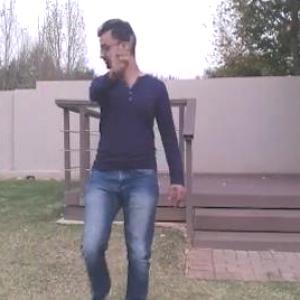takeoff-hand: (102, 28, 135, 73)
